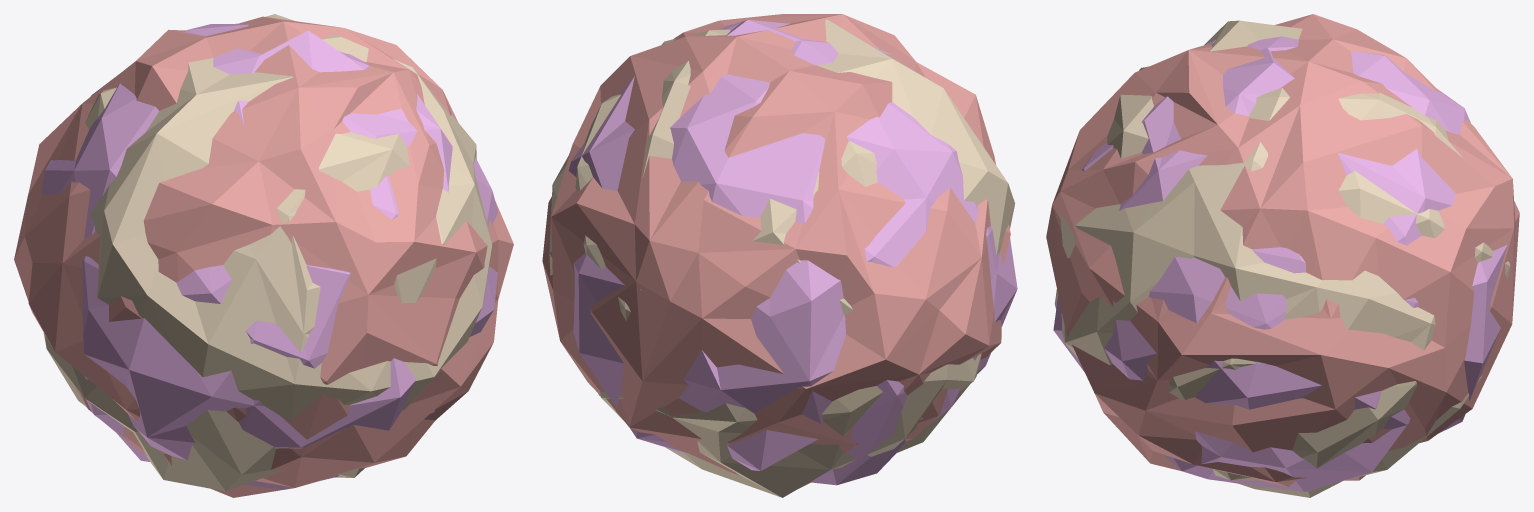
The model's file is gas_planet7.fbx.
3 renders of one model, left to right at view 1: azimuth 30°, elevation 25°; view 2: azimuth 150°, elevation 25°; view 3: azimuth 270°, elevation 25°, orthographic.
Parts seen in each view (by area): view 1: gas_planet7; view 2: gas_planet7; view 3: gas_planet7.
Part boxes in pixels (x1,y1,x2,y2): gas_planet7: (14, 14, 513, 497); gas_planet7: (542, 14, 1017, 497); gas_planet7: (1046, 14, 1519, 497).
Bounding box in the file's own units: 207 × 203 × 201.
